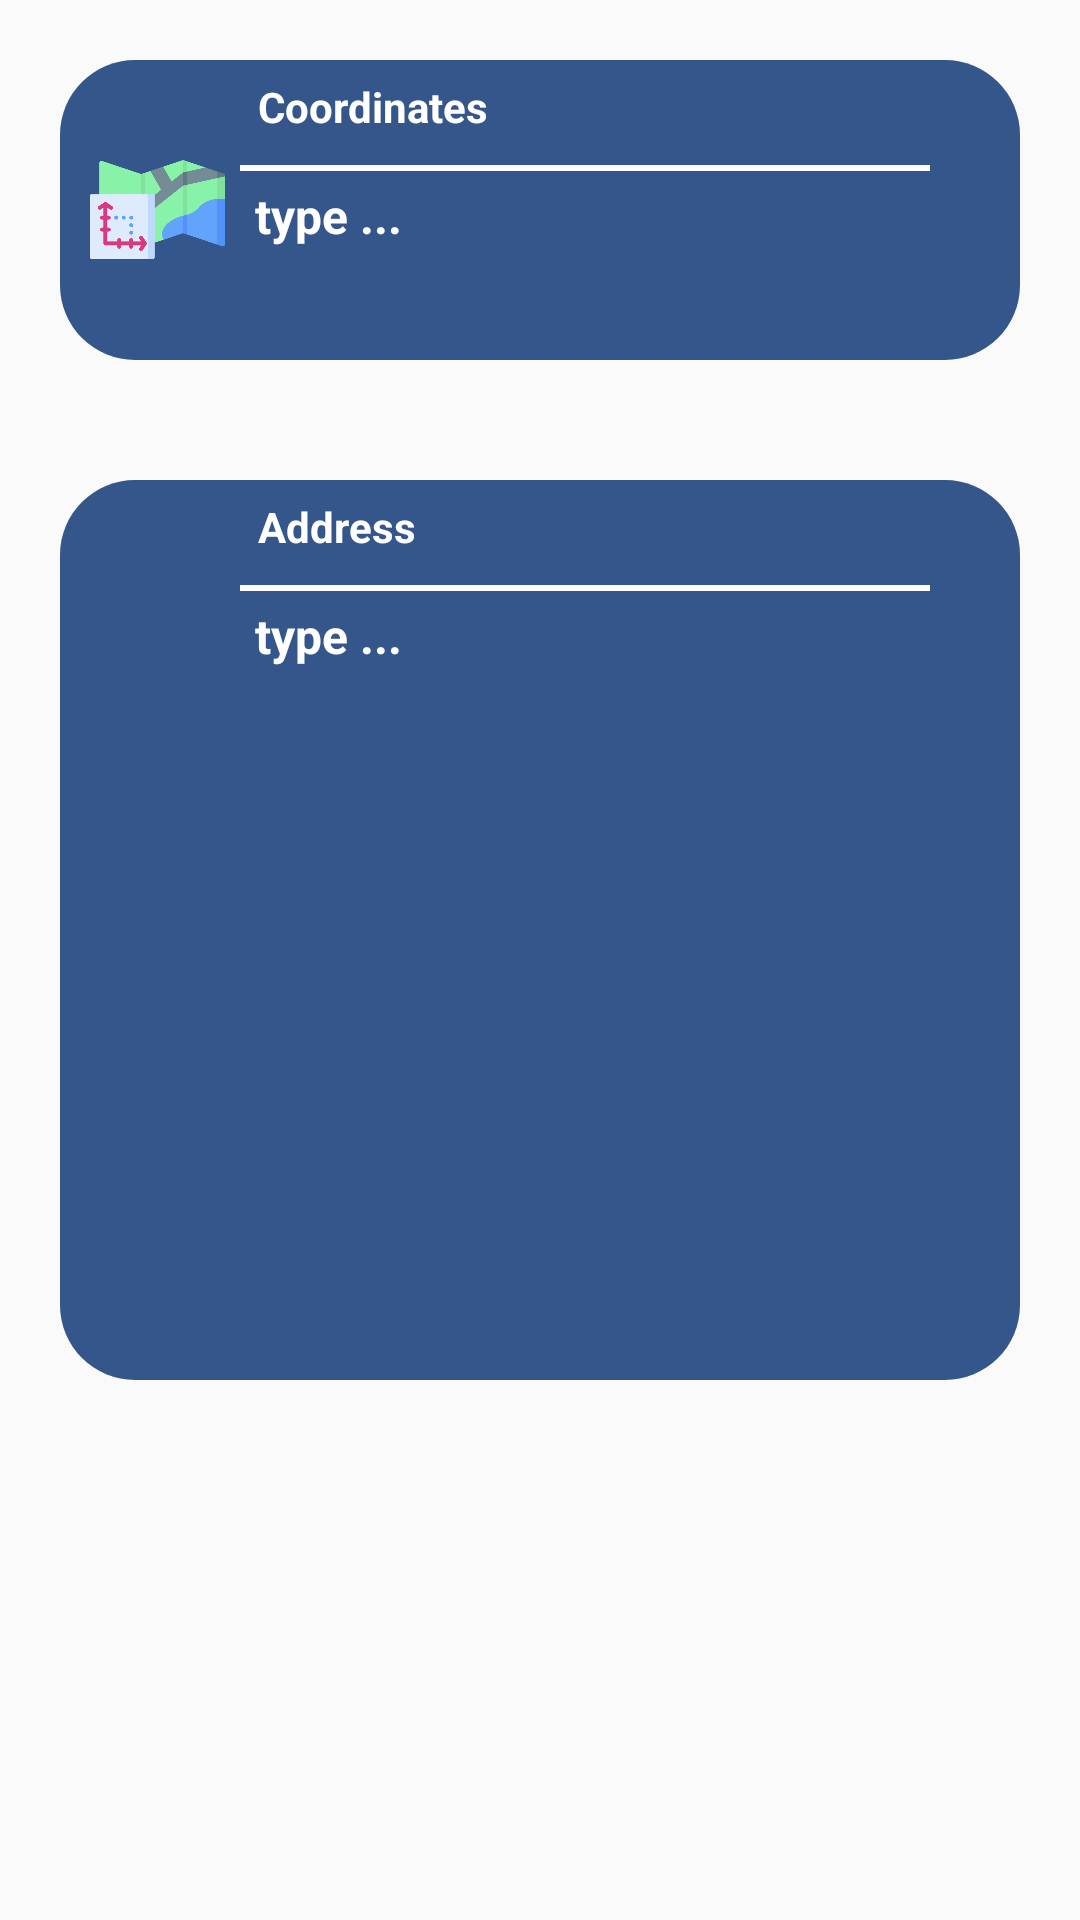

Icons on this 1080*1920 Android screen, each with its box as (x1, y1, x2, y2):
imgcoordinate: (90, 160, 225, 259)
